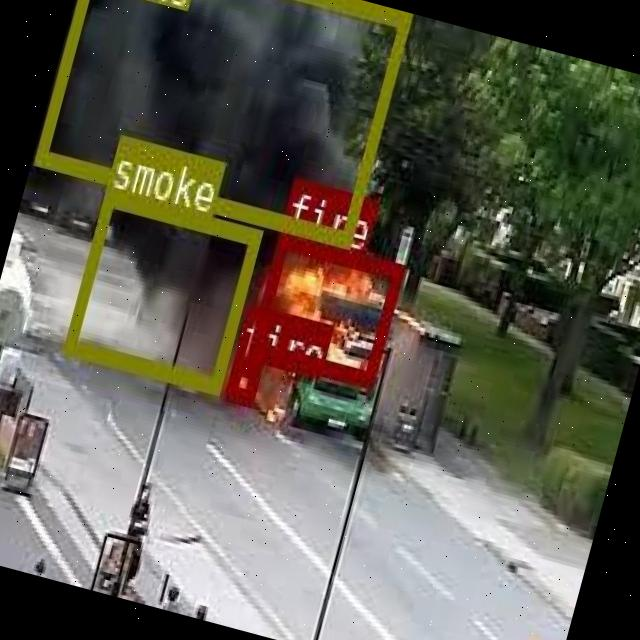fire: (245, 231, 403, 386), (223, 356, 261, 400)
smoke: (32, 0, 410, 243), (63, 188, 260, 390)
